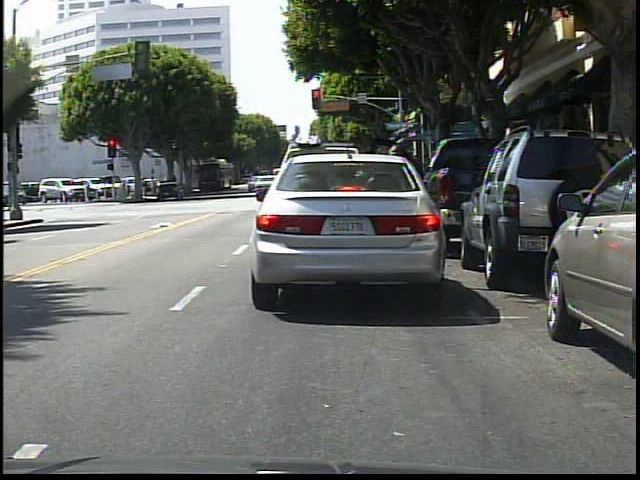person: (388, 141, 419, 244)
